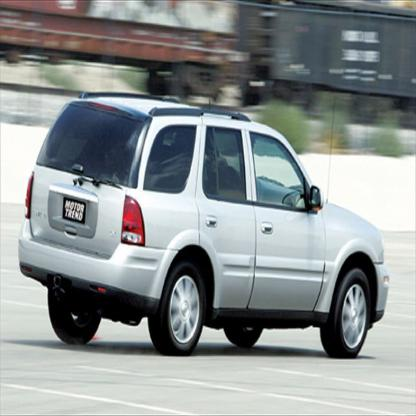Vehicle: (16, 84, 393, 362)
